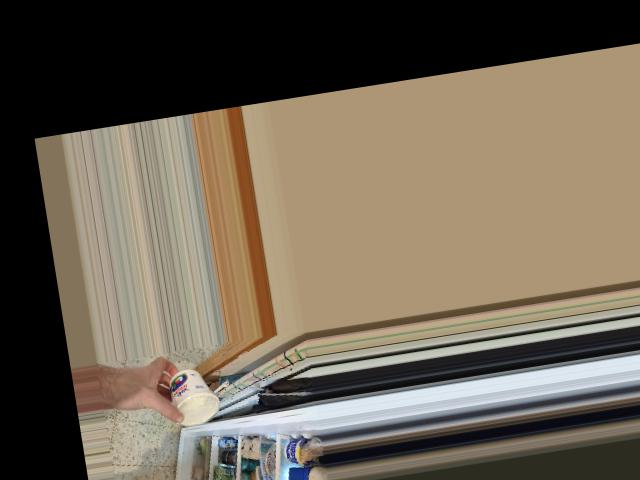cotage: (159, 366, 216, 418)
